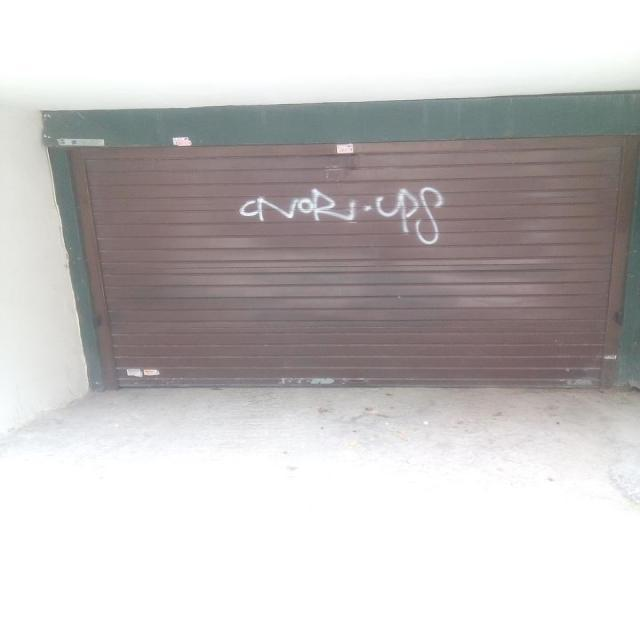nonspitting: (238, 183, 443, 248)
